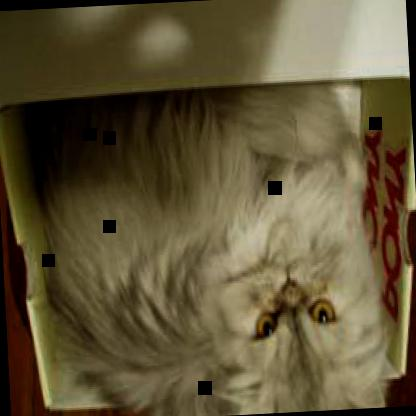cat: (29, 75, 390, 415)
